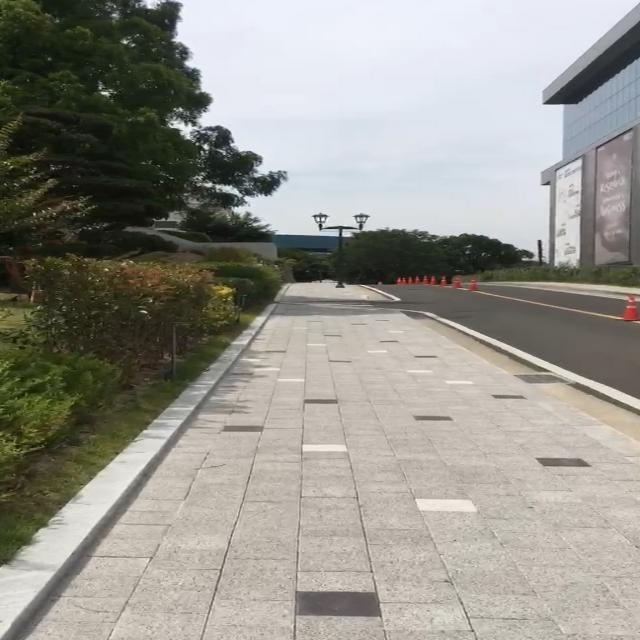obstacle: (614, 290, 640, 319)
road: (360, 282, 640, 445)
sidewalk: (0, 306, 640, 640), (498, 282, 640, 302), (261, 280, 396, 301)
